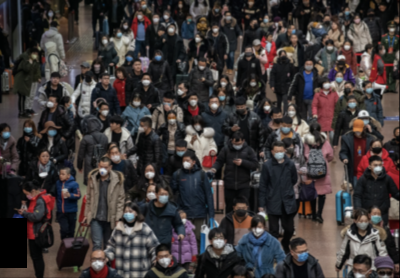mask_weared_incorrect: (110, 150, 121, 162), (245, 48, 253, 56)
with_mask: (90, 256, 105, 271), (157, 253, 172, 268), (296, 247, 310, 262), (212, 235, 226, 249), (123, 209, 136, 223), (353, 266, 369, 277), (235, 205, 248, 218), (252, 224, 265, 237), (357, 218, 370, 230), (371, 211, 382, 225), (98, 164, 110, 176), (158, 191, 169, 204), (46, 126, 58, 137), (274, 148, 285, 160), (372, 162, 383, 174), (46, 97, 57, 108), (182, 158, 193, 169), (372, 143, 383, 154), (145, 167, 155, 179), (147, 188, 157, 200), (379, 269, 394, 277), (1, 128, 11, 139), (24, 191, 35, 200), (210, 99, 219, 110), (233, 141, 244, 150), (286, 144, 295, 155), (23, 124, 33, 133), (168, 115, 177, 125), (274, 113, 283, 123), (282, 124, 292, 133), (361, 116, 370, 126), (348, 99, 357, 109), (176, 148, 187, 156), (136, 11, 145, 20), (142, 77, 151, 86), (237, 105, 246, 114), (288, 107, 297, 116), (344, 85, 353, 94), (163, 99, 173, 107), (138, 123, 146, 133), (190, 96, 198, 106), (366, 84, 374, 94), (67, 99, 74, 110), (101, 107, 109, 116), (168, 25, 176, 34), (177, 86, 185, 95), (194, 122, 202, 131), (306, 62, 314, 71), (181, 215, 188, 225), (31, 51, 39, 59), (102, 37, 110, 45), (220, 79, 228, 87), (218, 93, 226, 101), (264, 103, 272, 111), (338, 58, 346, 66), (132, 99, 141, 106), (198, 63, 207, 70), (337, 74, 344, 83), (155, 53, 162, 61), (195, 35, 202, 43), (250, 79, 258, 86), (324, 81, 331, 89), (141, 1, 148, 8), (85, 75, 92, 82), (126, 54, 133, 61), (212, 26, 219, 33), (280, 53, 287, 60), (327, 44, 334, 51), (117, 29, 123, 37), (291, 26, 297, 34), (325, 17, 331, 25), (123, 22, 129, 29), (94, 63, 101, 69), (164, 12, 170, 19), (153, 16, 160, 22), (226, 14, 232, 21), (253, 21, 259, 28), (278, 22, 284, 29), (303, 0, 310, 6), (345, 43, 351, 50), (390, 26, 396, 33), (396, 131, 400, 141), (355, 130, 363, 135), (48, 10, 54, 16), (355, 17, 361, 23), (326, 36, 331, 43), (382, 47, 387, 54), (345, 8, 350, 15), (188, 16, 193, 22), (215, 6, 220, 12), (248, 0, 254, 5), (264, 16, 269, 22), (361, 73, 366, 79), (369, 12, 375, 17), (275, 21, 279, 27), (179, 2, 183, 7), (211, 53, 215, 58), (201, 20, 206, 23)
without_mask: (39, 153, 50, 164), (59, 170, 68, 181), (51, 75, 60, 85), (134, 62, 142, 71), (102, 76, 110, 84), (110, 121, 117, 129), (116, 71, 123, 79), (81, 66, 88, 72), (292, 36, 298, 43), (254, 44, 261, 50), (158, 29, 163, 36), (268, 35, 273, 41), (333, 22, 338, 28), (395, 17, 400, 22), (381, 5, 385, 11)
